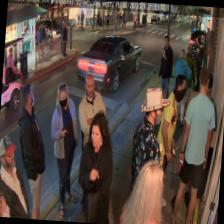person: (169, 66, 217, 224), (126, 85, 171, 224), (147, 72, 186, 212), (10, 83, 50, 219), (44, 80, 82, 220), (72, 72, 108, 203), (74, 110, 116, 222), (0, 135, 34, 218), (156, 34, 174, 104)
